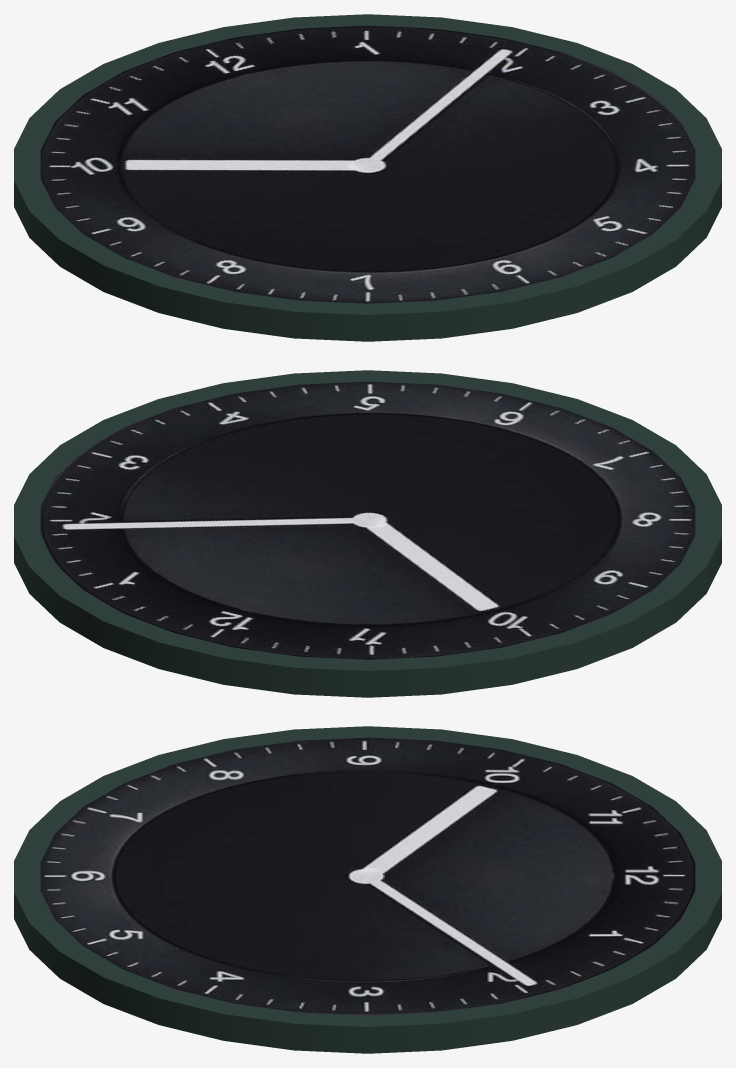
Rendered from clock7.FBX.
The picture shows the model from 3 angles, top to bottom: view 1: azimuth 30°, elevation 25°; view 2: azimuth 150°, elevation 25°; view 3: azimuth 270°, elevation 25°; orthographic projection.
Visible parts, largest first — view 1: clock7; view 2: clock7; view 3: clock7.
Boxes of the visible parts, x1,y1,x2,y2 form: clock7: (14, 14, 721, 341); clock7: (14, 370, 721, 697); clock7: (14, 726, 721, 1053).
Size of the model in its own units: 3.5 by 0.145 by 3.48.
